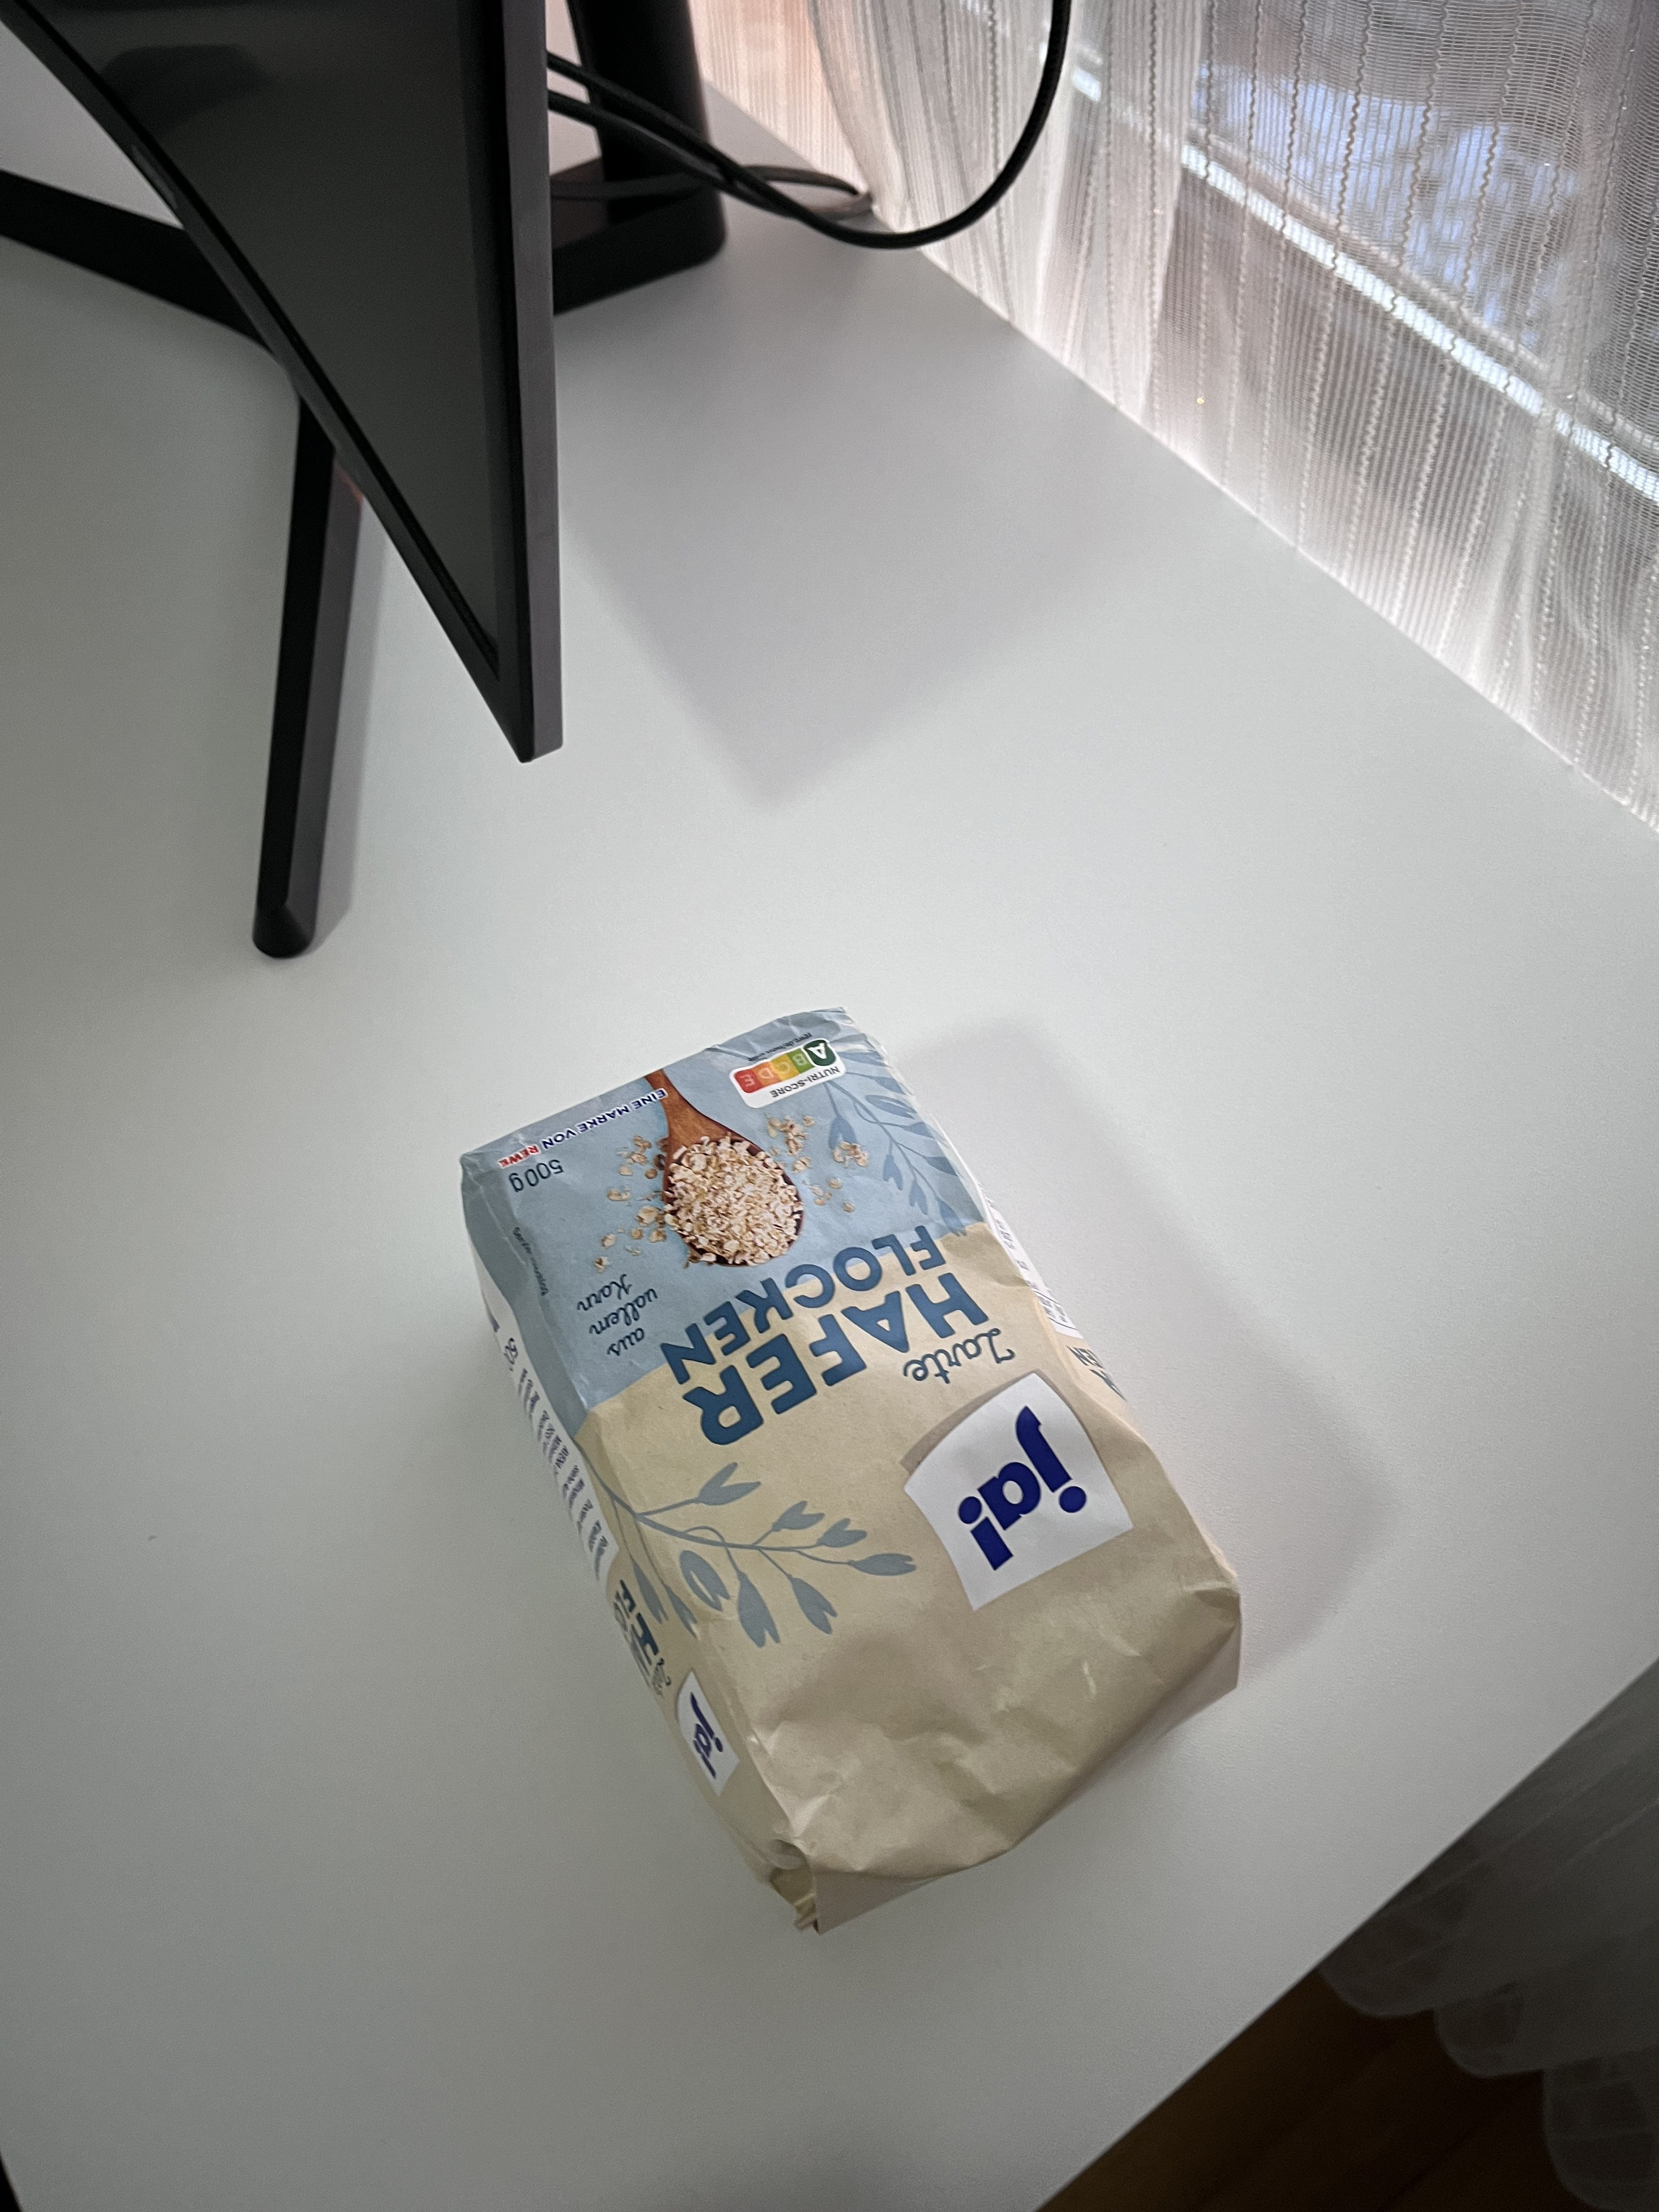haferflocken_ja: (462, 1008, 1244, 1942)
